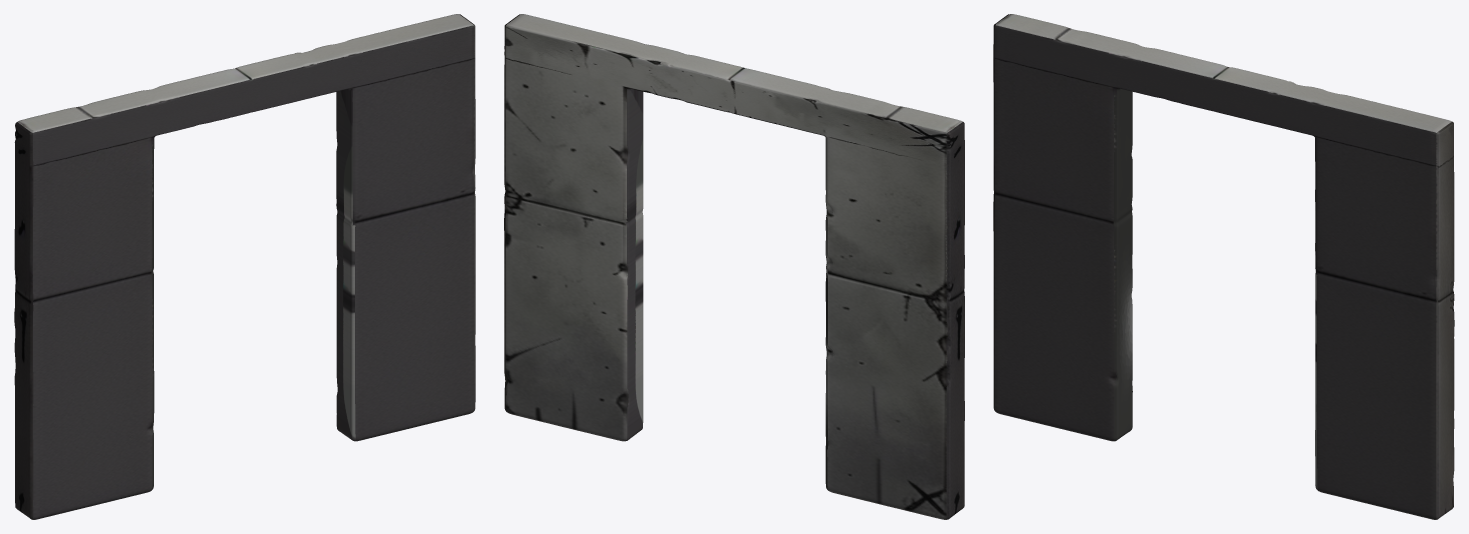
The model's file is Wall-Concrete-2.glb.
3 views of the same model, side by side, from view 1: azimuth 30°, elevation 25°; view 2: azimuth 150°, elevation 25°; view 3: azimuth 330°, elevation 25° (orthographic).
Visible parts, largest first — view 1: tmp3f8j23nr.ply; view 2: tmp3f8j23nr.ply; view 3: tmp3f8j23nr.ply.
Part boxes in pixels (x1,y1,x2,y2): tmp3f8j23nr.ply: (14, 14, 475, 519); tmp3f8j23nr.ply: (504, 14, 964, 519); tmp3f8j23nr.ply: (993, 14, 1454, 519).
Size of the model in its own units: 3 by 2.5 by 0.2.
Materials: 1 (1 with a texture image).
